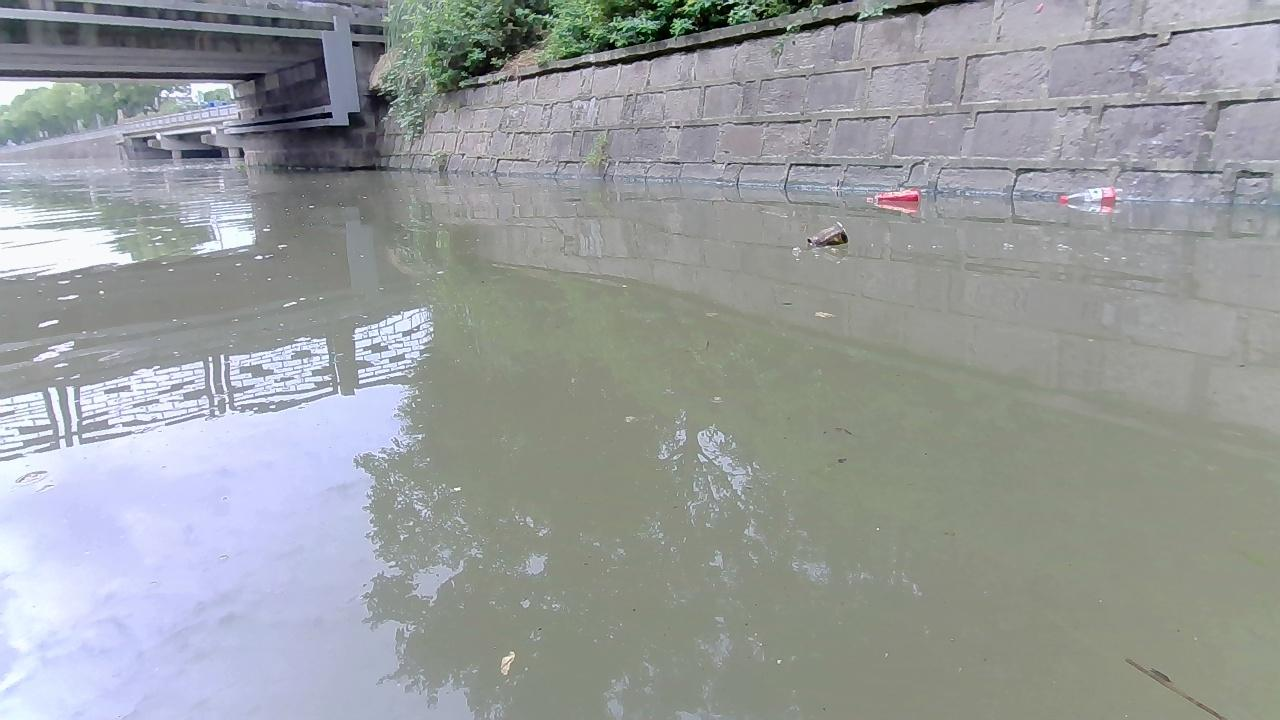bottle: (1055, 186, 1130, 212), (801, 217, 850, 249), (867, 183, 923, 206)
